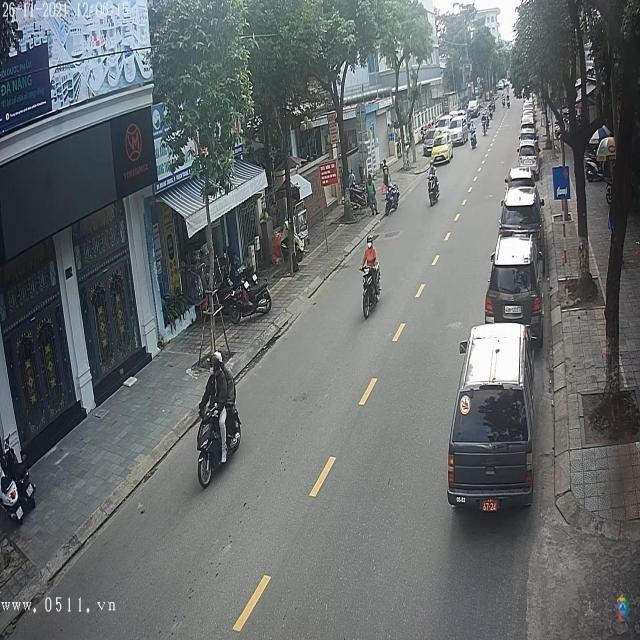car: (449, 326, 534, 511), (484, 235, 544, 332), (499, 187, 544, 237), (506, 166, 535, 190)
motorcycle: (194, 400, 244, 490), (361, 264, 385, 320), (427, 172, 441, 208)
